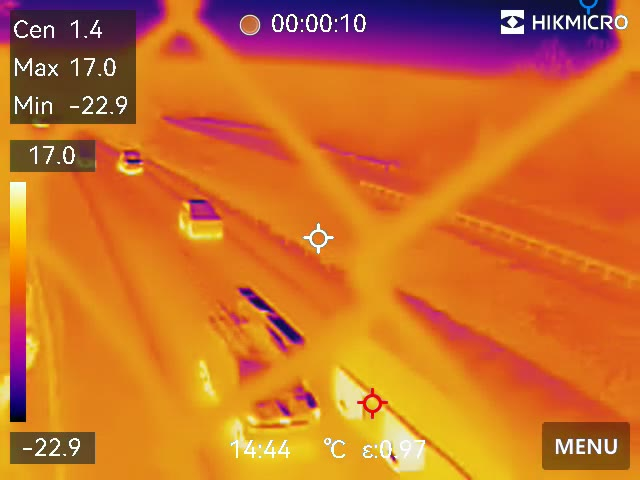lightTruck: (190, 284, 324, 446)
vehicle: (178, 197, 223, 242), (120, 147, 147, 183)
